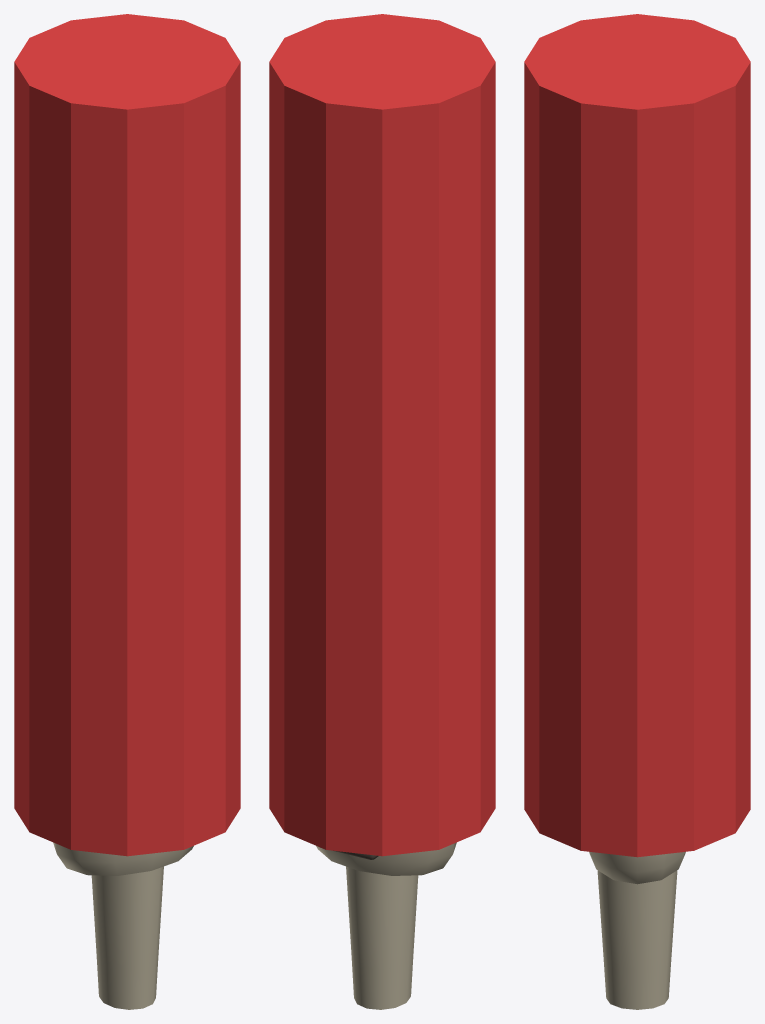
The model's file is character_parts.glb.
The picture shows the model from 3 angles, left to right: view 1: azimuth 30°, elevation 25°; view 2: azimuth 150°, elevation 25°; view 3: azimuth 270°, elevation 25°; orthographic projection.
Visible parts, largest first — view 1: COL_customer_capsule, thigh, pelvis; view 2: COL_customer_capsule, thigh, pelvis; view 3: COL_customer_capsule, thigh, pelvis.
Boxes of the visible parts, x1,y1,x2,y2 form: COL_customer_capsule: [14, 14, 240, 856]; thigh: [91, 866, 163, 1009]; pelvis: [53, 842, 193, 875]; COL_customer_capsule: [269, 14, 495, 856]; thigh: [346, 866, 418, 1009]; pelvis: [316, 842, 456, 875]; COL_customer_capsule: [524, 14, 750, 857]; thigh: [597, 870, 677, 1009]; pelvis: [589, 851, 685, 884].
Size of the model in its own units: 0.5 by 2.28 by 0.5.
